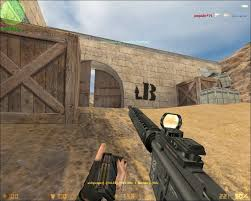gun: (126, 103, 233, 200)
